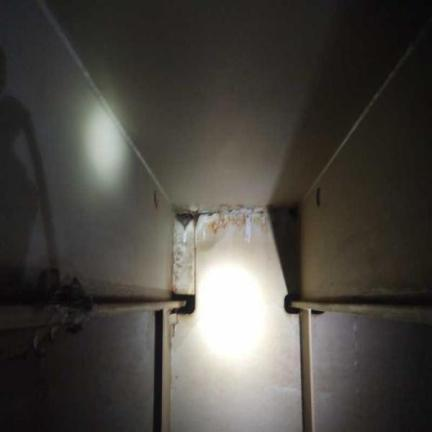besi_tidak_karat: (48, 0, 431, 204), (0, 0, 171, 300), (301, 27, 431, 305), (292, 300, 431, 324), (73, 296, 185, 318), (0, 303, 83, 330), (153, 307, 170, 431), (300, 308, 314, 431)
karat: (195, 207, 267, 243), (173, 213, 194, 295)
